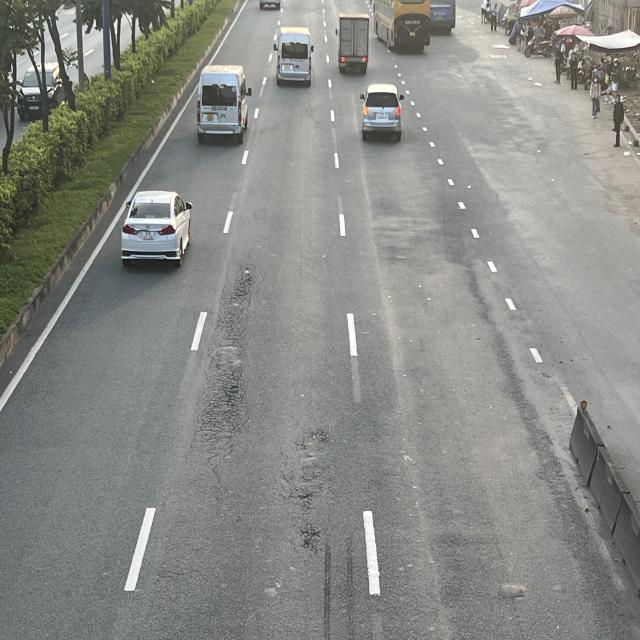car: (120, 191, 192, 266), (357, 81, 404, 139)
coach: (369, 1, 431, 53), (429, 0, 456, 34)
truck: (338, 15, 371, 74)
van: (197, 64, 250, 143), (274, 27, 314, 86)
